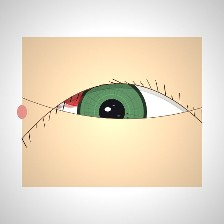hemorrhage_spot: (47, 63, 127, 127)
